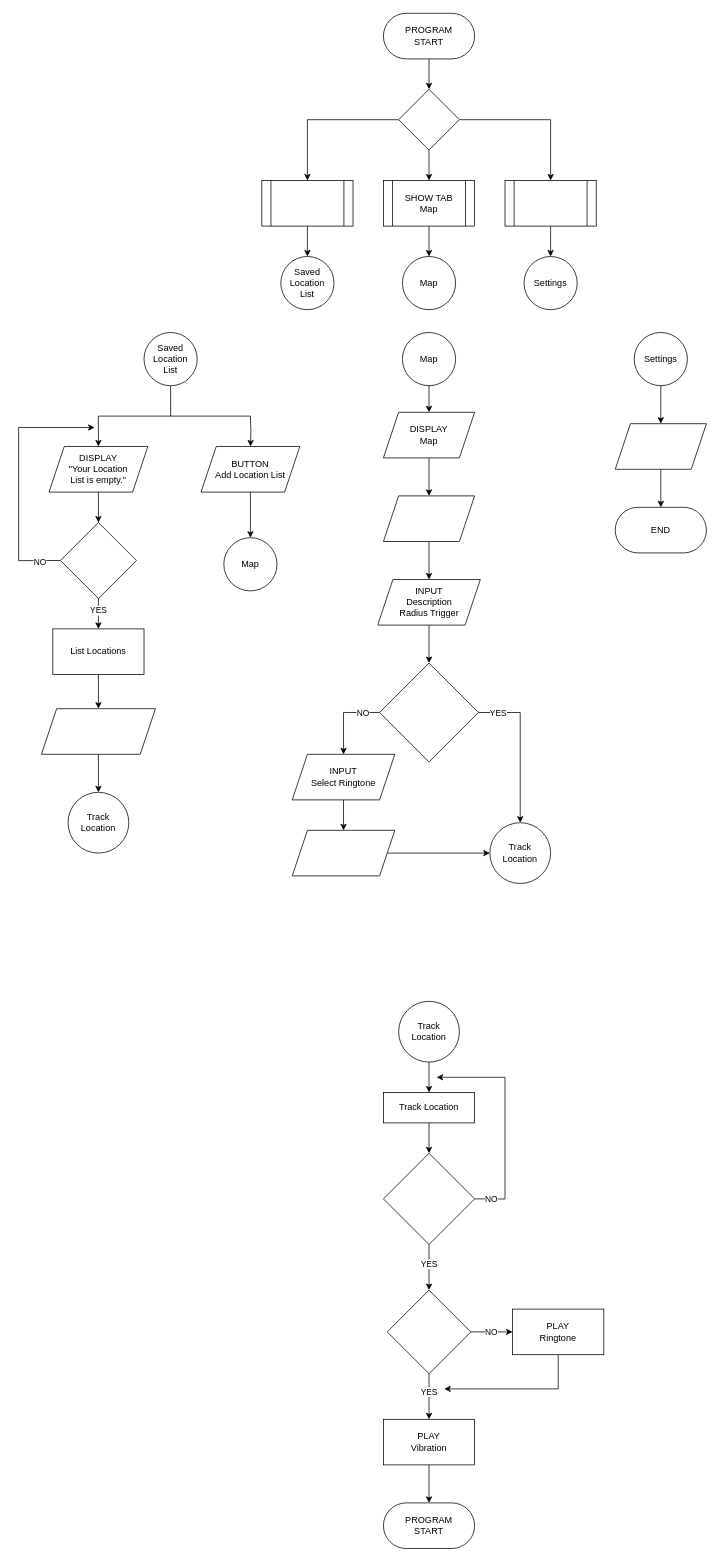
Image size: 720x1562. Some labels were removed from this diagram. Here are the shapes that lost their labels. From the top down, the centre of each, then its label:
At pixel 428 119: "NavButtons".
At pixel 307 203: "SHOW TAB Saved location List".
At pixel 550 203: "SHOW TAB Settings".
At pixel 660 446: "TOGGLE Dark Theme".
At pixel 429 518: "INPUT Select Pinned Location".
At pixel 98 560: "Is Location List > 0?".
At pixel 98 731: "BUTTON Each Location Item Button Clicked".
At pixel 428 712: "Vibration Alarm Only?".
At pixel 343 853: "INPUT Ringtone with Vibration?".
At pixel 429 1198: "Is user within the radius of pinned location?".
At pixel 428 1331: "Is this location list using vibration only?".
